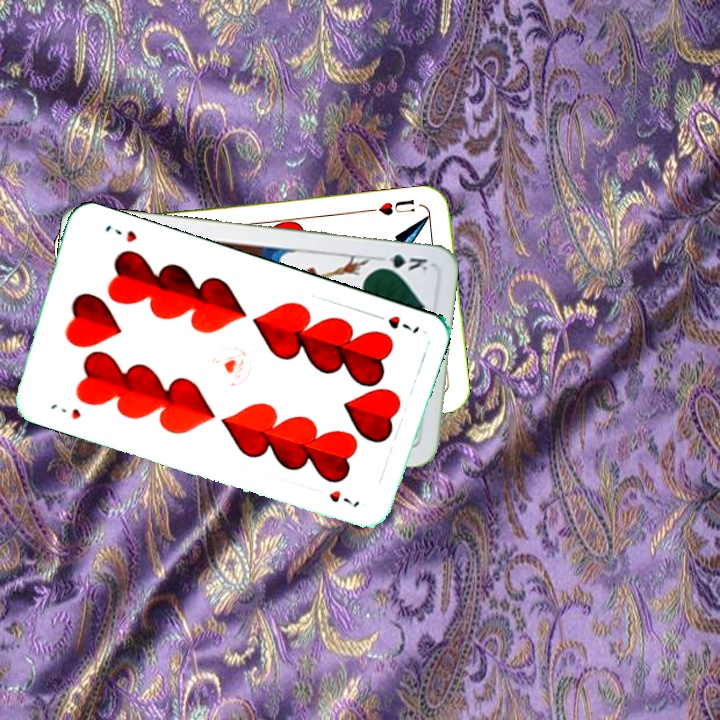GK: (373, 249, 430, 276)
H7: (367, 309, 422, 337), (46, 399, 84, 423)
HU: (375, 195, 417, 218)
